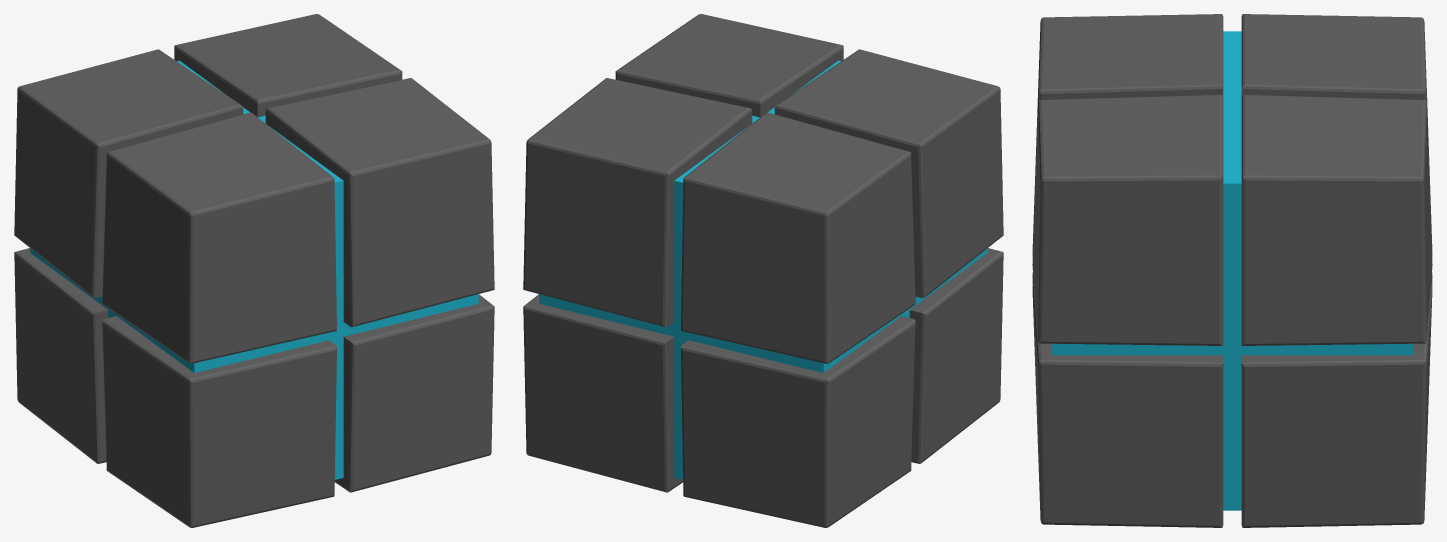
File: Physic Cube.fbx
The picture shows the model from 3 angles, left to right: view 1: azimuth 30°, elevation 25°; view 2: azimuth 150°, elevation 25°; view 3: azimuth 270°, elevation 25°; orthographic projection. The views are drawn at different scales.
Parts seen in each view (by area): view 1: Physic Cube; view 2: Physic Cube; view 3: Physic Cube.
Part boxes in pixels (x1,y1,x2,y2): Physic Cube: (14, 14, 494, 527); Physic Cube: (523, 14, 1003, 527); Physic Cube: (1032, 14, 1432, 527).
Size of the model in its own units: 222 by 222 by 222.
